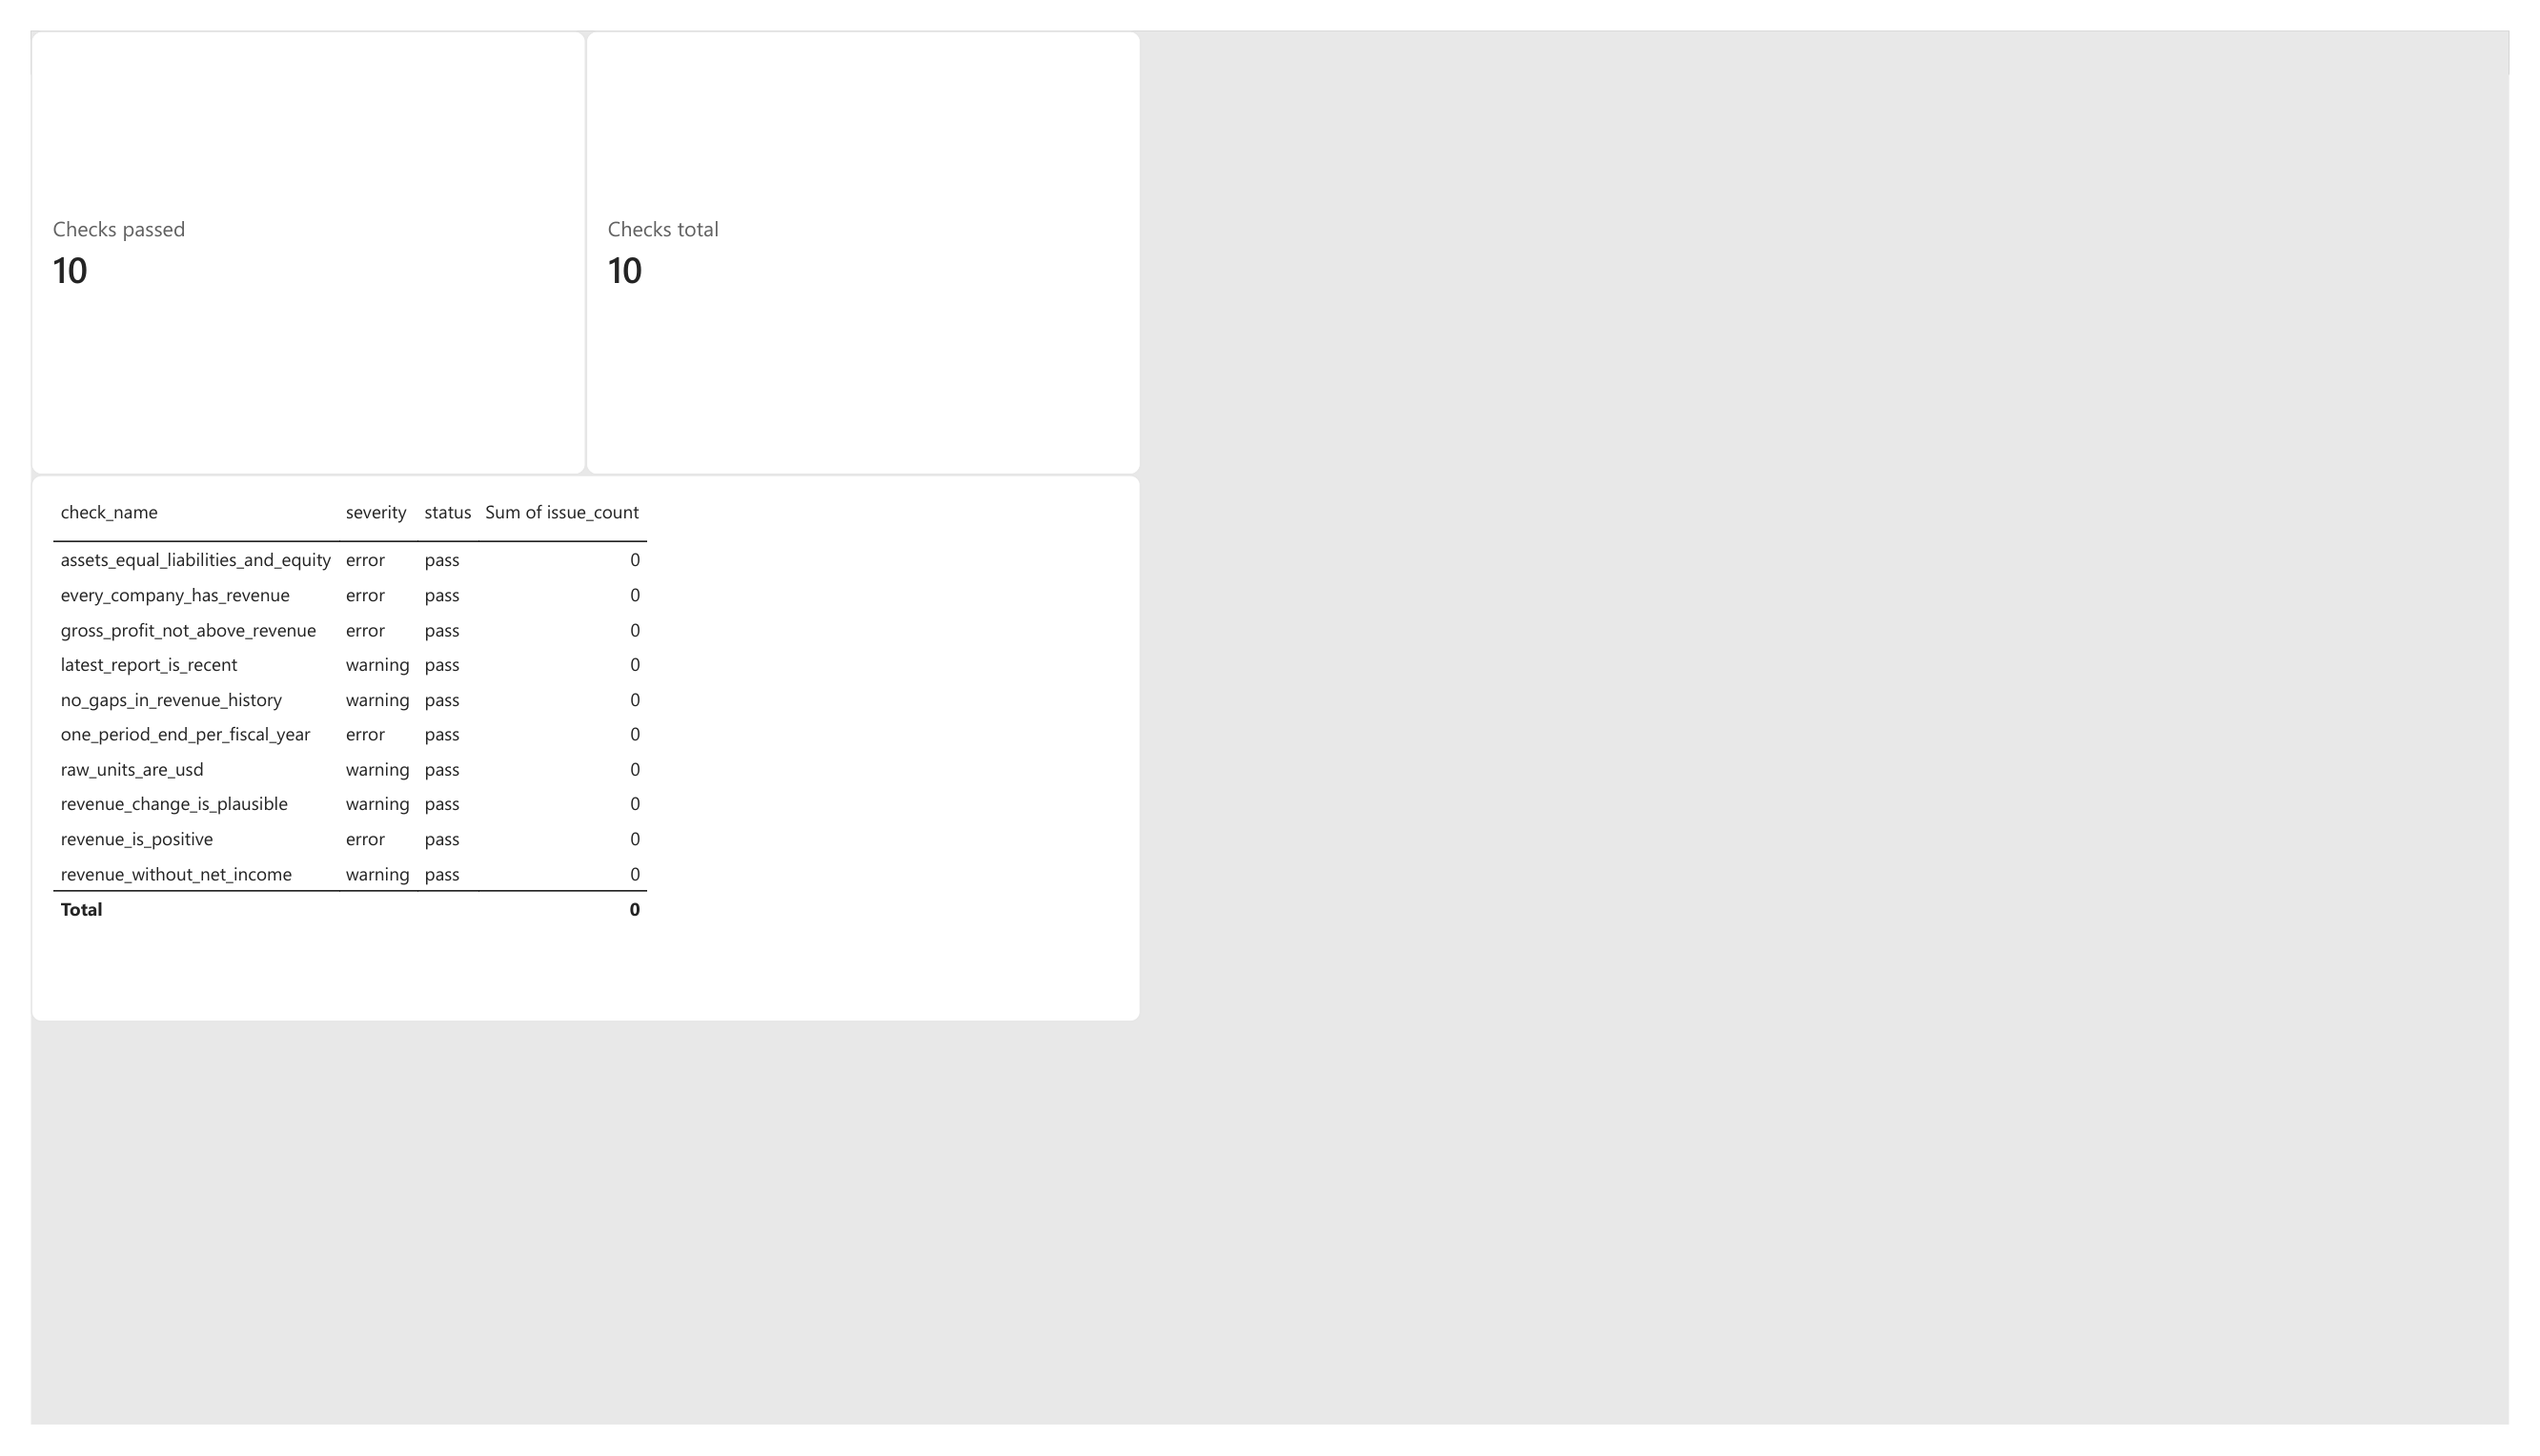

This screenshot's page, from the dashboard's own definition file:
{"tool":"powerbi","page":{"name":"Data Quality","canvas":[1920,1080],"ordinal":1},"visuals":[{"type":"tableEx","fields":{"Values":["dq_checks.check_name","dq_checks.severity","dq_checks.status","Sum(dq_checks.issue_count)"]},"box":[0,344,860,424],"z":0},{"type":"cardVisual","fields":{"Data":["dq_checks.Checks passed"]},"box":[0,0,430,344],"z":1},{"type":"cardVisual","fields":{"Data":["dq_checks.Checks total"]},"box":[430,0,430,344],"z":2}]}

Visuals, with their boxes in screenshot pixels (x1, y1, x2, y2), scaled from the page's 1920x1080 canvas onto the 2540x1456 screenshot:
tableEx - dq_checks.check_name x dq_checks.severity: <box>0,464,1138,1036</box>
cardVisual - dq_checks.Checks passed: <box>0,0,569,464</box>
cardVisual - dq_checks.Checks total: <box>569,0,1138,464</box>
